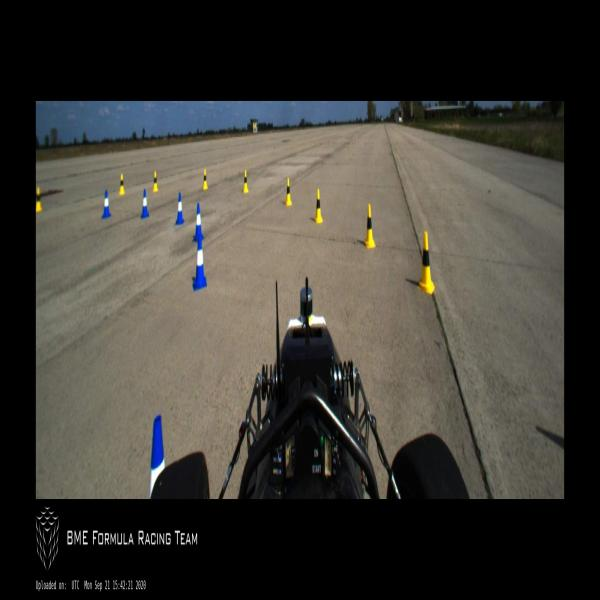blue_cone: (149, 415, 165, 499), (192, 235, 207, 291), (192, 204, 204, 242), (175, 193, 184, 225), (141, 189, 149, 218), (102, 190, 110, 218)
yellow_cone: (417, 231, 435, 294), (364, 204, 376, 249), (314, 189, 323, 223), (284, 178, 292, 206), (36, 187, 42, 212), (119, 174, 125, 195), (202, 170, 208, 190), (243, 170, 248, 193), (153, 172, 158, 192)
